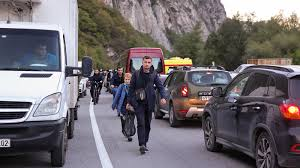Bus: (120, 48, 164, 74)
Car: (202, 66, 300, 168), (155, 68, 231, 127)
Person: (128, 56, 166, 154), (112, 73, 136, 142), (23, 40, 58, 67), (89, 70, 103, 105), (111, 68, 124, 99)
